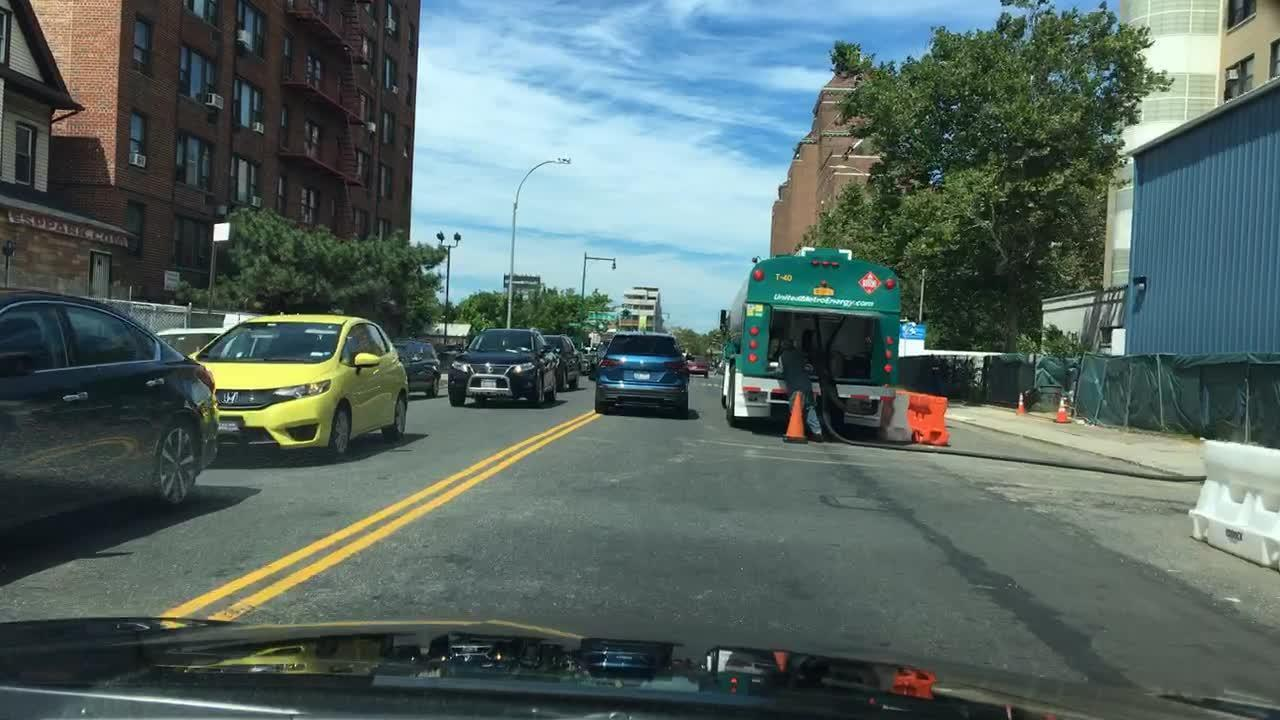Honda: (218, 388, 245, 411)
